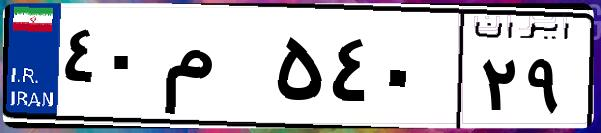0: (385, 28, 445, 110), (110, 28, 158, 98)
2: (475, 38, 525, 113)
4: (330, 28, 385, 110), (57, 26, 110, 100)
5: (270, 28, 330, 110)
9: (525, 38, 570, 115)
م: (158, 20, 270, 120)
